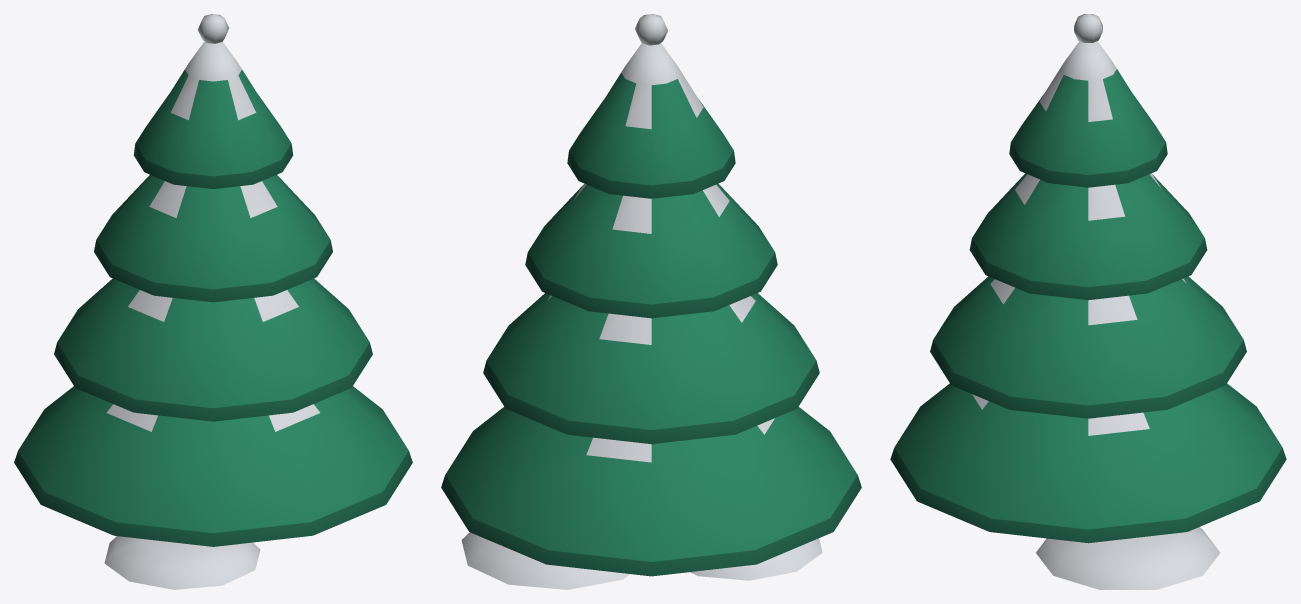
Rendered from ice-deco1.glb.
3 views of the same model, side by side, from view 1: azimuth 30°, elevation 25°; view 2: azimuth 150°, elevation 25°; view 3: azimuth 270°, elevation 25° (orthographic). The views are drawn at different scales.
Visible parts, largest first — view 1: ice-deco1; view 2: ice-deco1; view 3: ice-deco1.
Part boxes in pixels (box(x1,y1,x2,y2)): ice-deco1: box(14, 14, 412, 589); ice-deco1: box(441, 14, 861, 589); ice-deco1: box(890, 14, 1286, 589).
Size of the model in its own units: 3.3 by 4.64 by 3.3.
